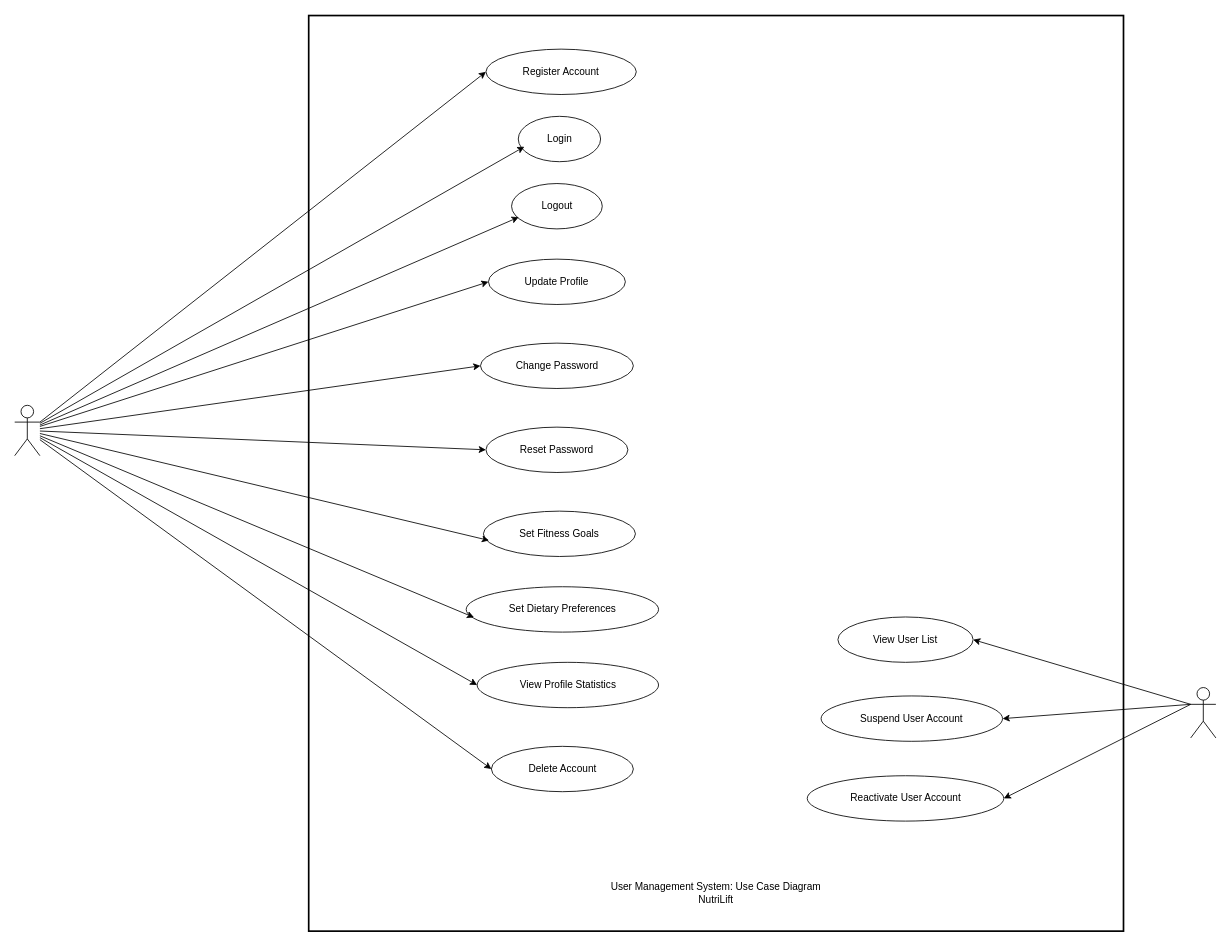
The diagram is 1232 pixels wide and 946 high, and some of its shapes have lost their labels. Here are the shapes that lost their labels. From the top down, the centre of each, then its label:
At point (27, 430): "User".
At point (1203, 712): "Admin".
